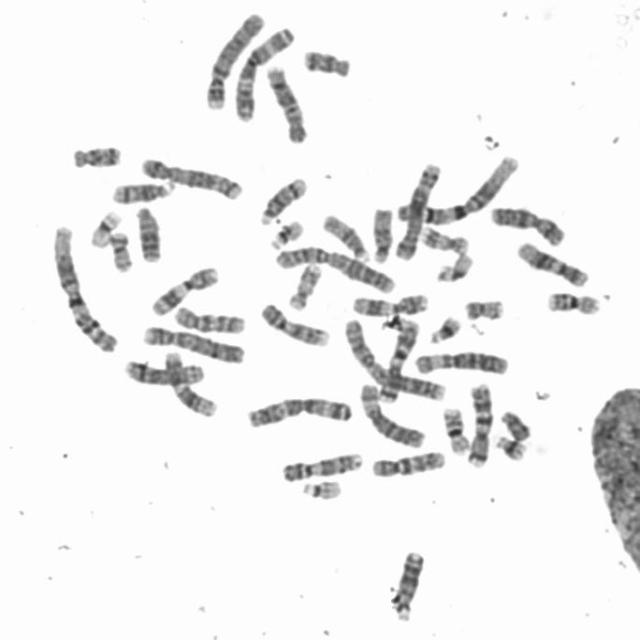A1: (52, 226, 120, 356), (395, 155, 520, 225)
A2: (342, 318, 448, 404), (273, 244, 395, 296)
A3: (233, 27, 296, 124), (248, 397, 354, 431)
B4: (204, 10, 267, 112), (142, 325, 246, 365)
B5: (394, 163, 442, 261), (140, 157, 244, 201)
C10: (370, 449, 448, 481), (173, 306, 246, 335)
C11: (149, 266, 221, 318), (351, 292, 429, 319)
C12: (163, 351, 220, 420), (516, 240, 590, 289)
C6: (358, 382, 428, 450), (413, 352, 511, 377)
C7: (375, 317, 422, 403), (465, 382, 495, 468)
C8: (264, 66, 309, 144), (124, 360, 206, 387)
C9: (258, 302, 331, 351), (282, 452, 364, 484)
D13: (392, 550, 429, 622), (133, 206, 163, 265)
D14: (259, 177, 308, 227), (109, 180, 178, 206)
D15: (321, 214, 371, 263), (370, 207, 394, 265)
E16: (442, 407, 472, 457), (546, 290, 601, 317)
E17: (288, 263, 323, 311), (418, 224, 470, 256)
E18: (301, 48, 351, 78), (72, 146, 124, 170)
F19: (89, 211, 122, 250), (435, 252, 474, 284)
F20: (463, 299, 508, 322), (110, 232, 133, 273)
G21: (427, 315, 463, 346), (493, 434, 530, 463)
G22: (270, 217, 303, 252), (302, 478, 344, 501)
X: (489, 206, 567, 248)
Y: (499, 409, 531, 442)
